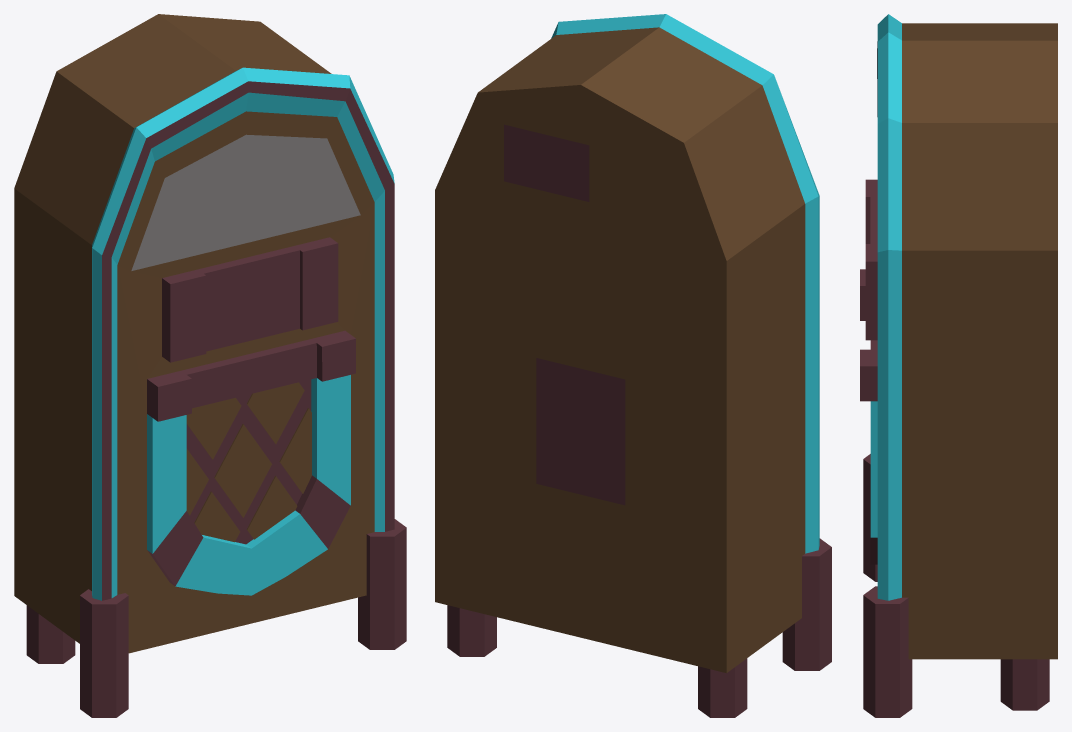
Rendered from jukebox.fbx.
The picture shows the model from 3 angles, left to right: view 1: azimuth 30°, elevation 25°; view 2: azimuth 150°, elevation 25°; view 3: azimuth 270°, elevation 25°; orthographic projection.
Visible parts, largest first — view 1: jukebox; view 2: jukebox; view 3: jukebox.
Part boxes in pixels (bbox=[...]): jukebox: bbox=[14, 14, 406, 717]; jukebox: bbox=[435, 14, 831, 717]; jukebox: bbox=[860, 14, 1057, 717].
Size of the model in its own units: 0.6842 by 1.26 by 0.3715.
